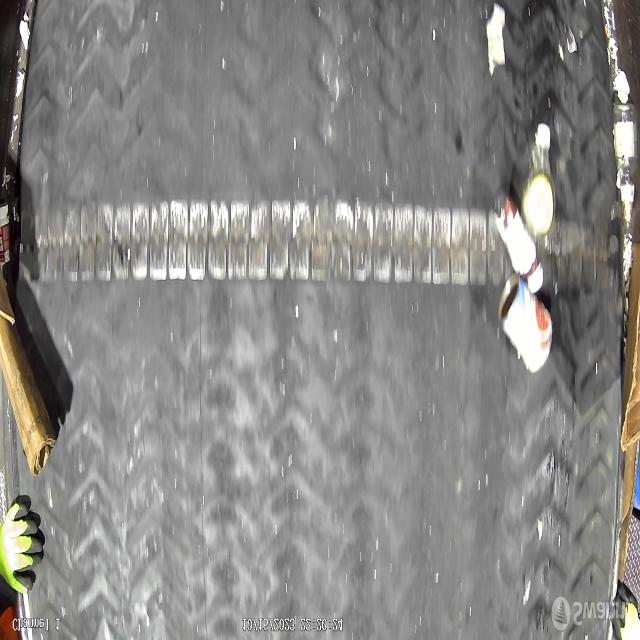can: (499, 274, 554, 375)
plastic_bottle: (492, 188, 544, 294), (522, 126, 557, 242), (612, 104, 638, 229)
